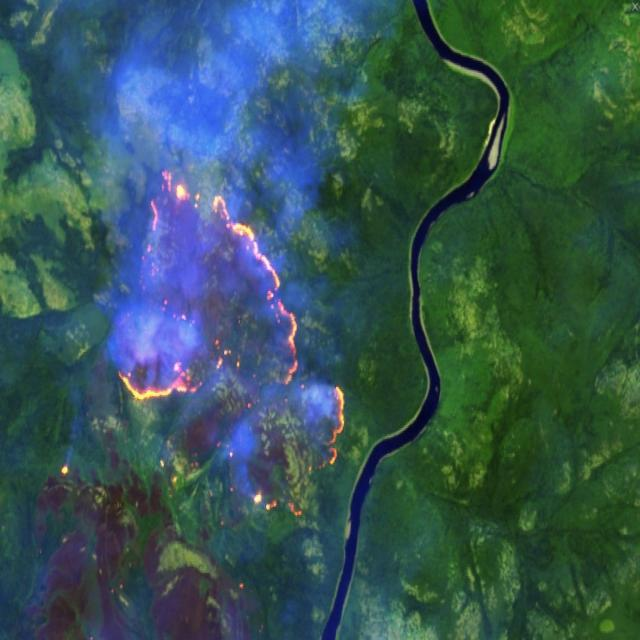fire: (111, 165, 342, 478)
